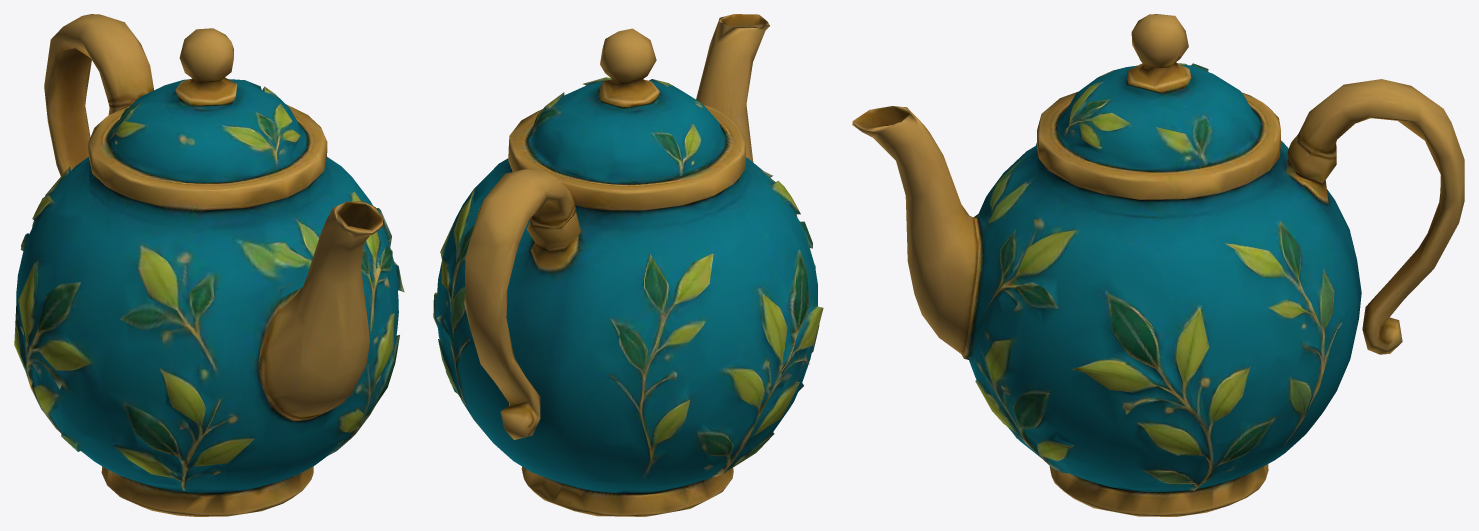
File: SM_Kitchen_Teapot.glb
The picture shows the model from 3 angles, left to right: view 1: azimuth 30°, elevation 25°; view 2: azimuth 150°, elevation 25°; view 3: azimuth 270°, elevation 25°; orthographic projection. The views are drawn at different scales.
Parts seen in each view (by area): view 1: tripo_node_110e45fa-908e-4b7a-af70-74d3c0e0a775; view 2: tripo_node_110e45fa-908e-4b7a-af70-74d3c0e0a775; view 3: tripo_node_110e45fa-908e-4b7a-af70-74d3c0e0a775.
Boxes of the visible parts, <box> form: tripo_node_110e45fa-908e-4b7a-af70-74d3c0e0a775: <box>14,14,404,516</box>; tripo_node_110e45fa-908e-4b7a-af70-74d3c0e0a775: <box>433,14,823,516</box>; tripo_node_110e45fa-908e-4b7a-af70-74d3c0e0a775: <box>852,14,1464,516</box>.
Bounding box in the file's own units: 0.6635 × 0.8251 × 1.
1 material, 1 textured.
